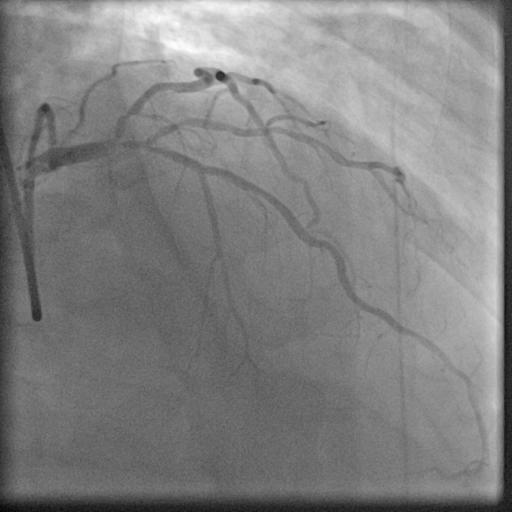Stenosis: (113, 105, 137, 123)
